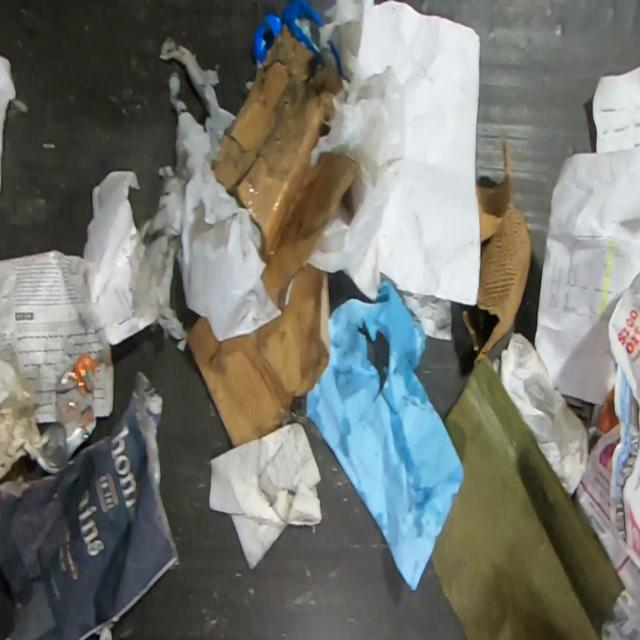cardboard: (186, 21, 358, 449), (473, 139, 532, 365)
metal: (41, 356, 98, 468)
soft_plastic: (307, 0, 481, 306), (159, 33, 283, 342)
